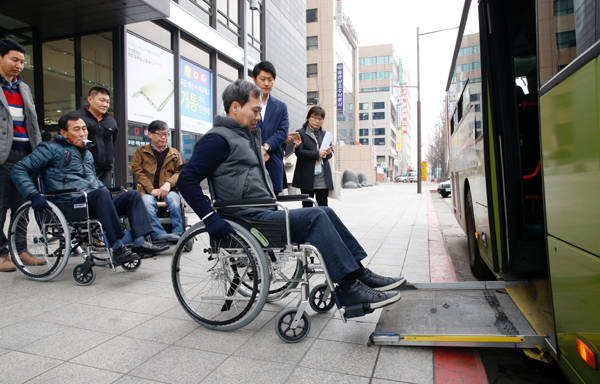wheelchair: (171, 80, 402, 342), (9, 112, 169, 285)
